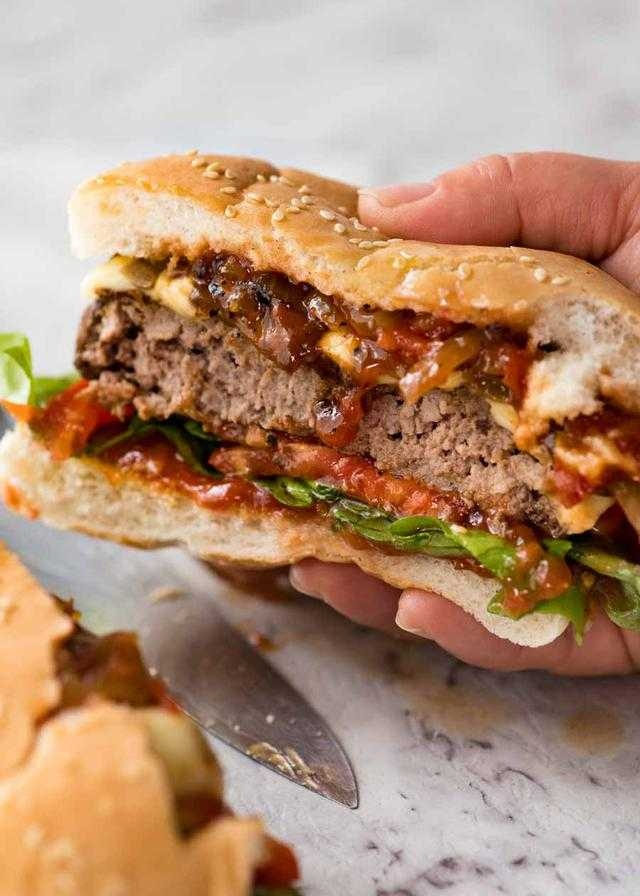hamburger: (1, 149, 620, 575)
